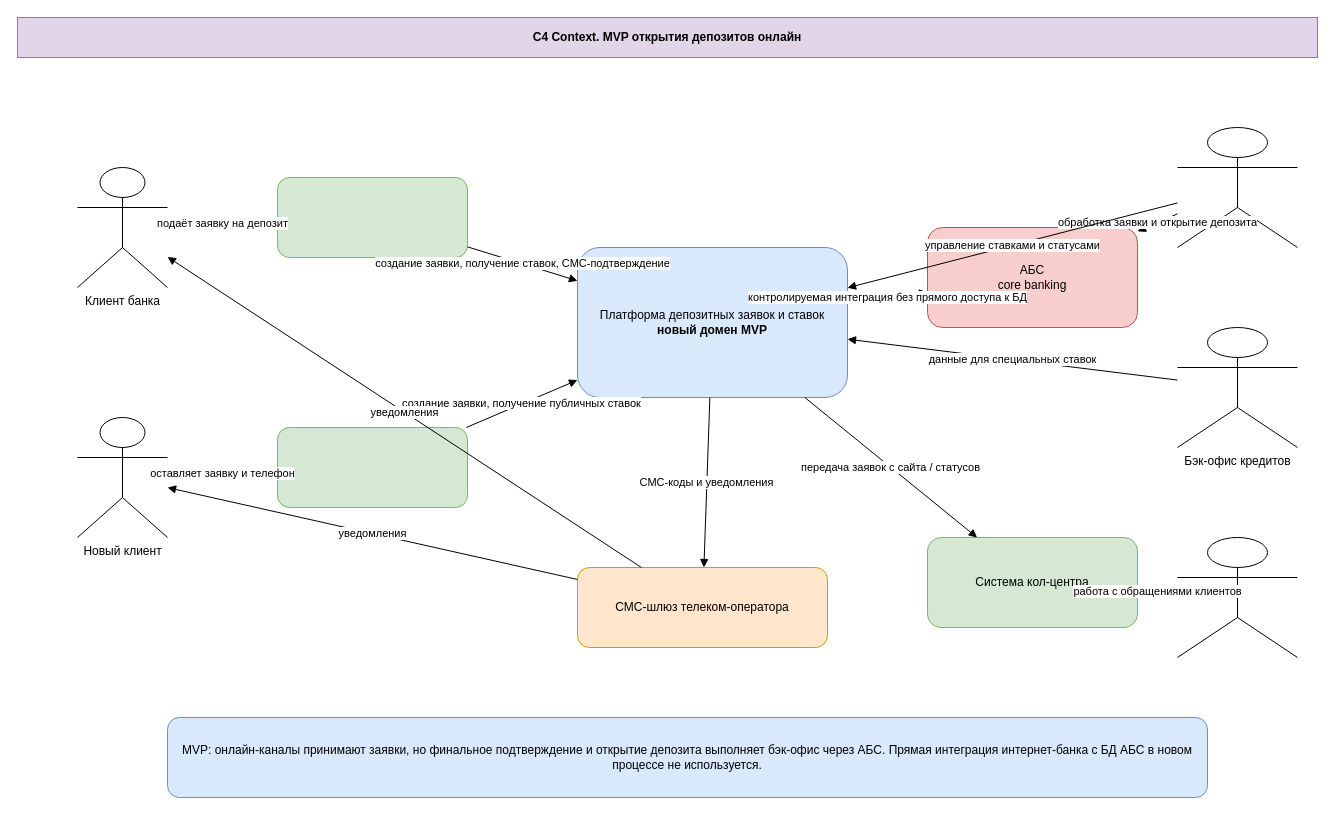
Image size: 1335x815. Some labels were removed from this diagram. The shapes that lost their labels are listed below. From the top down, each one's box as (x1, y1, x2, y2) in pixels, then its label:
(1176, 126, 1298, 248): Бэк-офис депозитов
(276, 176, 468, 258): Интернет-банк
(276, 426, 468, 508): Сайт банка
(1176, 536, 1298, 658): Оператор кол-центра
